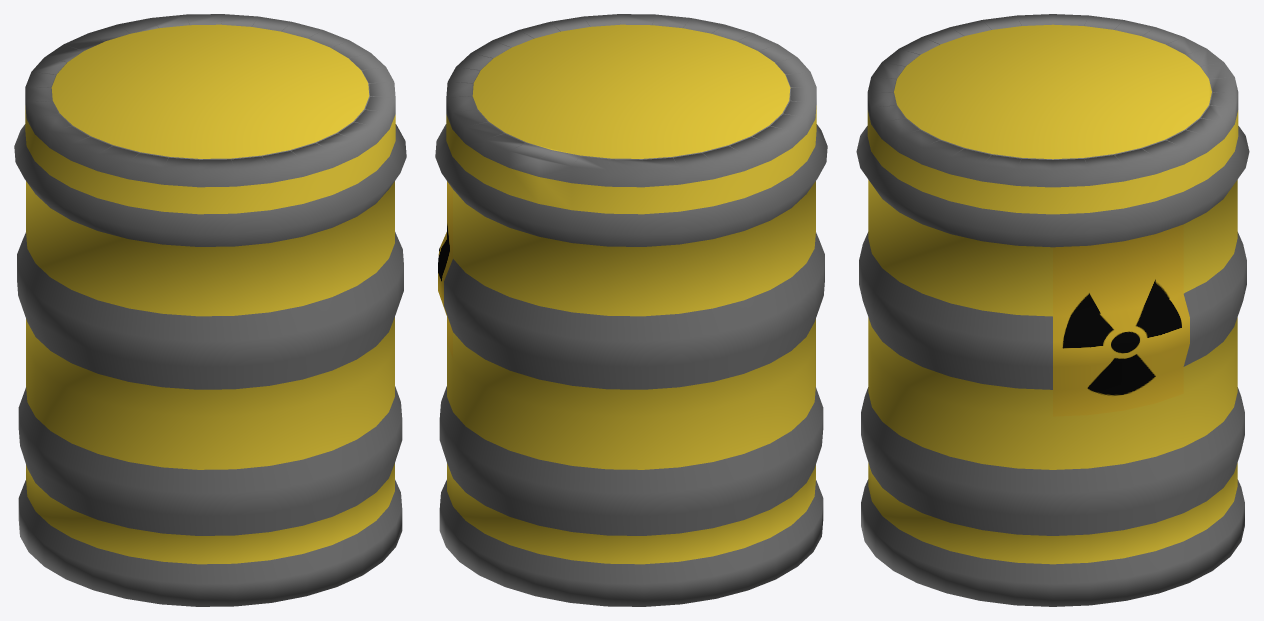
Rendered from toxic_waste.fbx.
The picture shows the model from 3 angles, left to right: view 1: azimuth 30°, elevation 25°; view 2: azimuth 150°, elevation 25°; view 3: azimuth 270°, elevation 25°; orthographic projection.
Parts seen in each view (by area): view 1: Cylinder; view 2: Cylinder; view 3: Cylinder.
Boxes of the visible parts, x1=… form: Cylinder: x1=14, y1=14, x2=406, y2=606; Cylinder: x1=435, y1=14, x2=827, y2=606; Cylinder: x1=856, y1=14, x2=1249, y2=606.
Size of the model in its own units: 319 by 389 by 319.
Materials: 3 (1 with a texture image).
